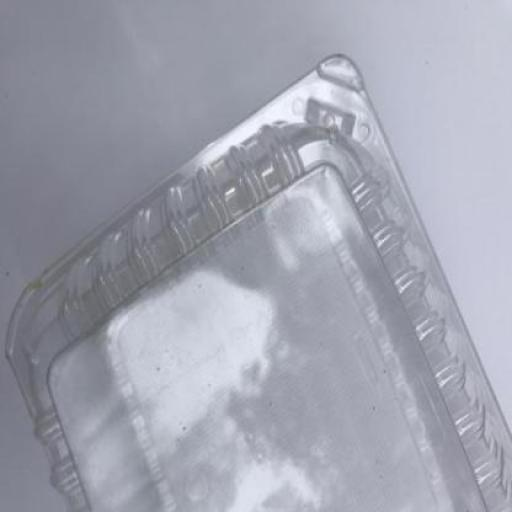plastic: (6, 44, 511, 511)
